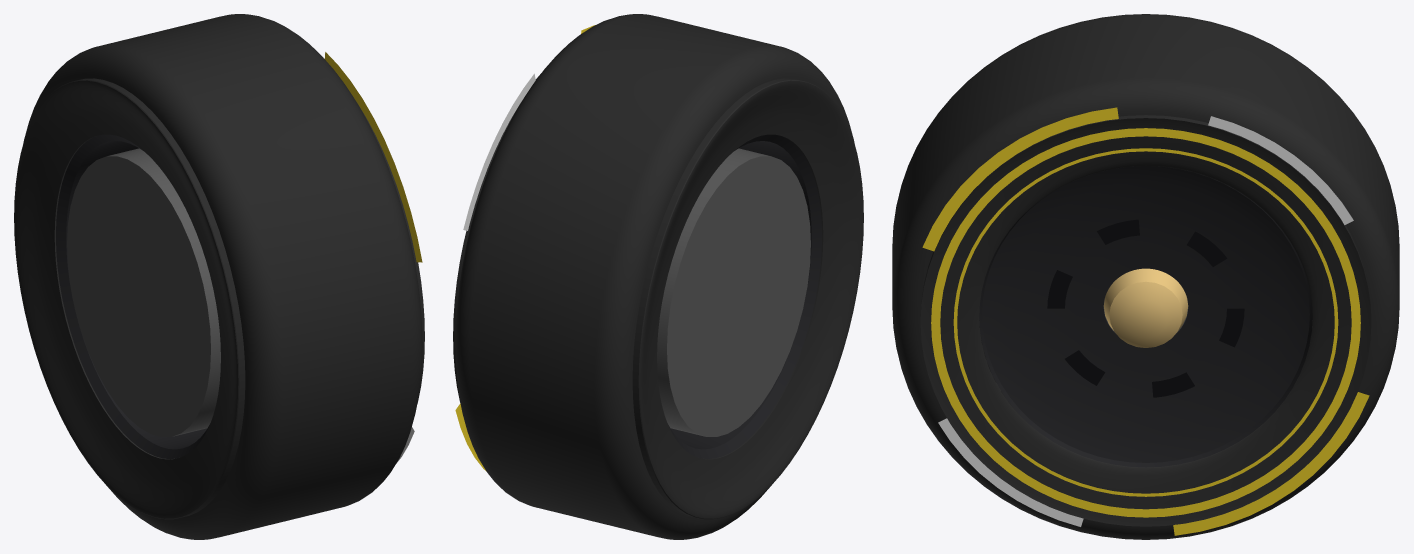
The model's file is f1_2025_wheel_front.glb.
3 renders of one model, left to right at view 1: azimuth 30°, elevation 25°; view 2: azimuth 150°, elevation 25°; view 3: azimuth 270°, elevation 25°, orthographic.
Visible parts, largest first — view 1: wheel_front_Tyre, wheel_front_Brake, wheel_front_Rim, wheel_front_TyreStripe; view 2: wheel_front_Tyre, wheel_front_Brake, wheel_front_Rim, wheel_front_TyreText; view 3: wheel_front_Tyre, wheel_front_Rim, wheel_front_TyreStripe, wheel_front_RimGold, wheel_front_Inlet, wheel_front_TyreText.
Boxes of the visible parts, x1,y1,x2,y2 form: wheel_front_Tyre: (14,14,424,539); wheel_front_Brake: (67,148,220,436); wheel_front_Rim: (56,134,210,459); wheel_front_TyreStripe: (324,52,422,262); wheel_front_Tyre: (453,14,863,539); wheel_front_Brake: (657,148,810,436); wheel_front_Rim: (667,134,821,459); wheel_front_TyreText: (463,73,535,230); wheel_front_Tyre: (892,14,1399,539); wheel_front_Rim: (979,166,1312,467); wheel_front_TyreStripe: (922,107,1369,535); wheel_front_RimGold: (1103,268,1188,347); wheel_front_Inlet: (1047,219,1244,397); wheel_front_TyreText: (938,116,1353,526).
Bounding box in the file's own units: 0.308 × 0.72 × 0.72.
